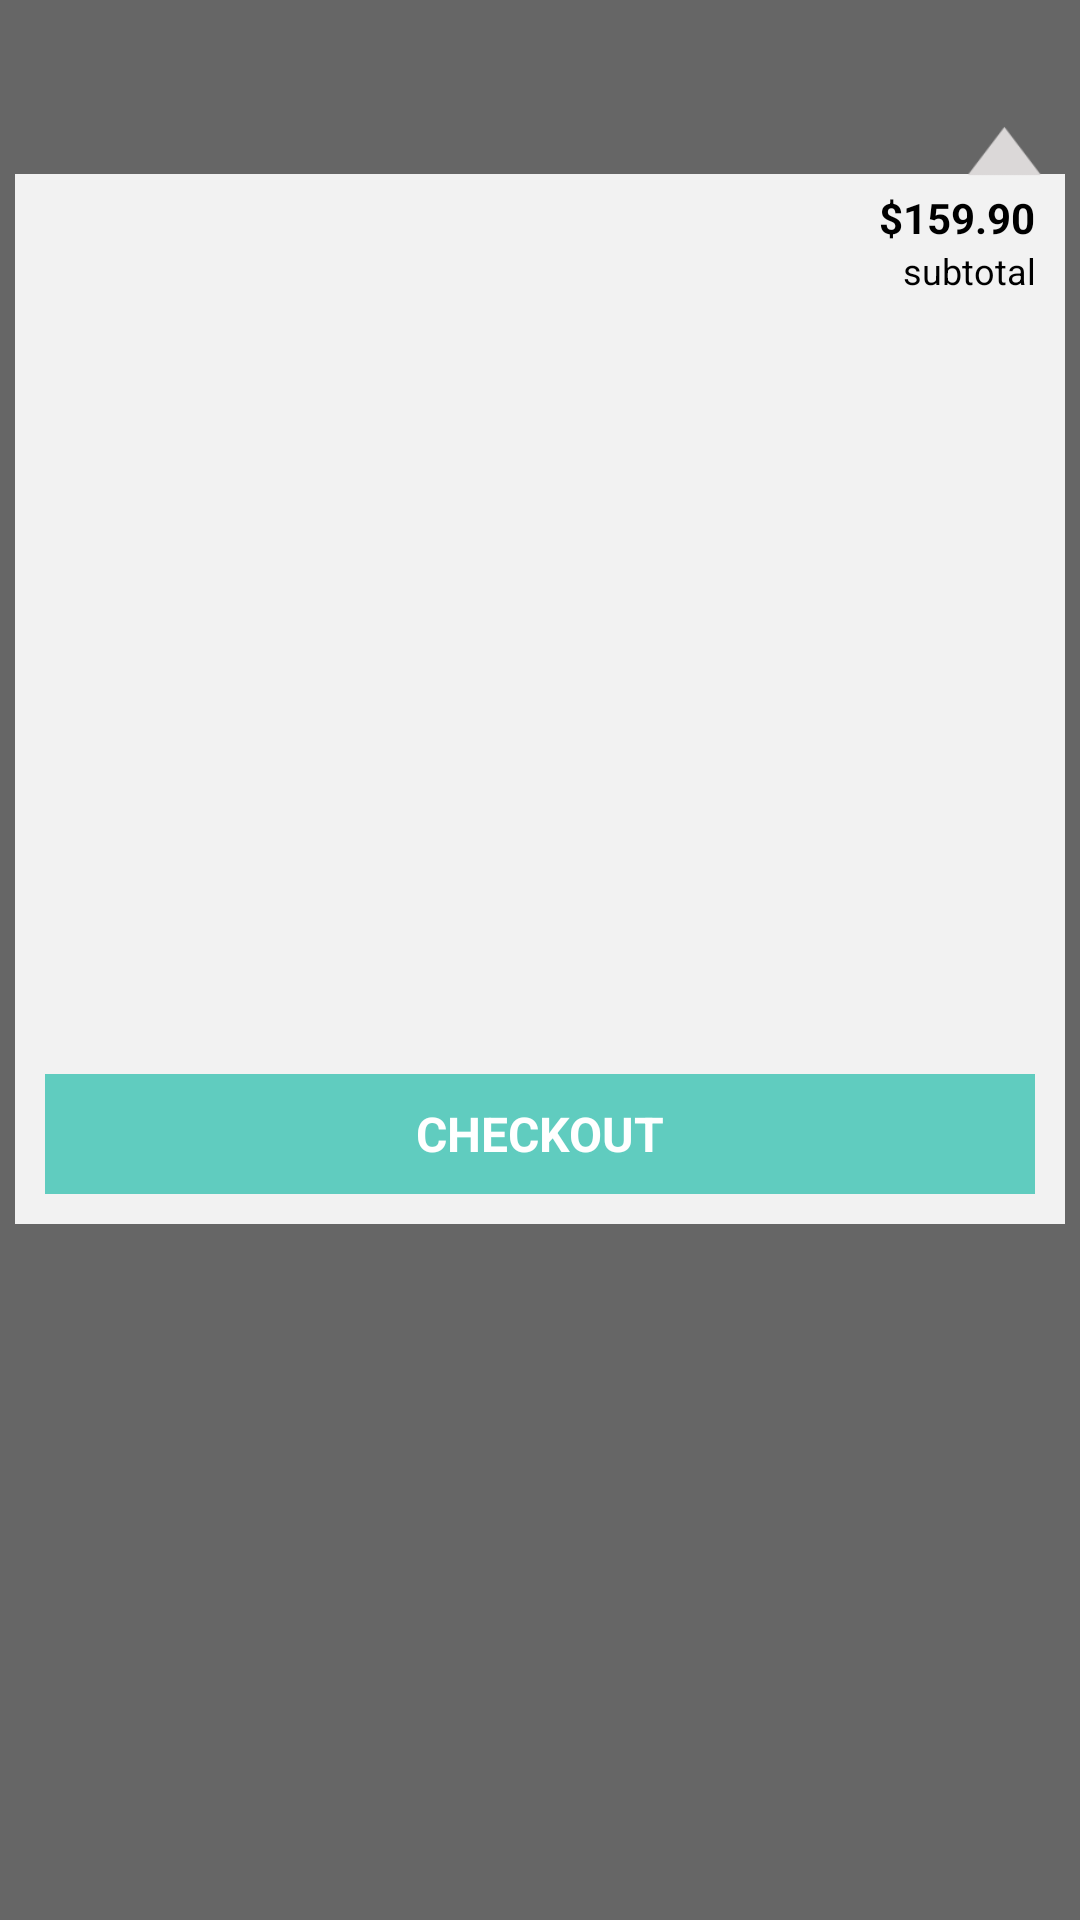

Point at icon controls on the screen. Image size 1080 x 1920, points as point (x, y).
arrow up: point (1005, 157)
